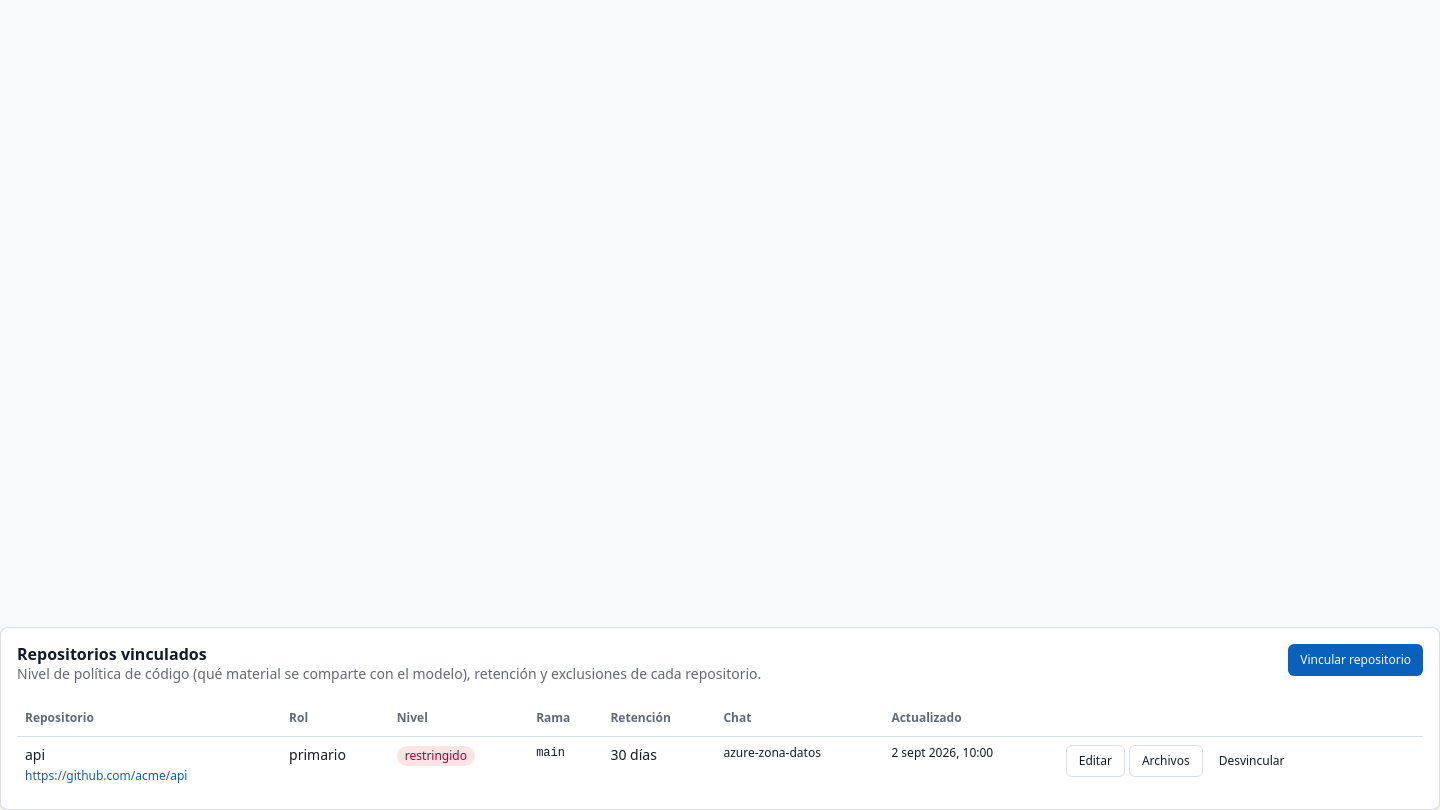
Test: archivos del repositorio › valida y muestra errores con su línea y avisos
(page scrolled)
Click the button "Archivos": (1166, 760) [1129,744,1203,776]
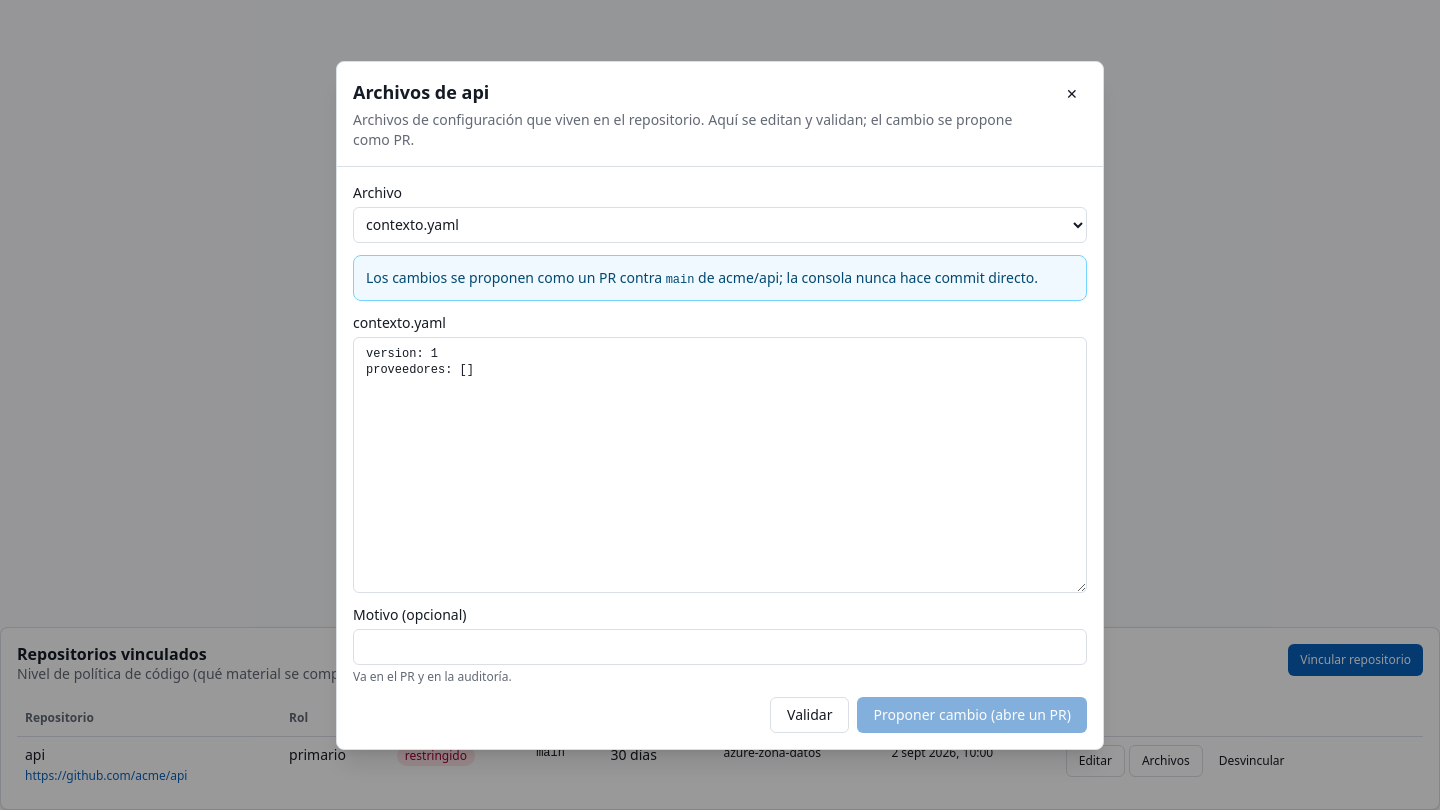
Check: the text "se proponen como un PR" is shown, box [366,268,666,286]
In the text box labelled "contexto.yaml": (720, 464) [353,336,1087,592], type "x"
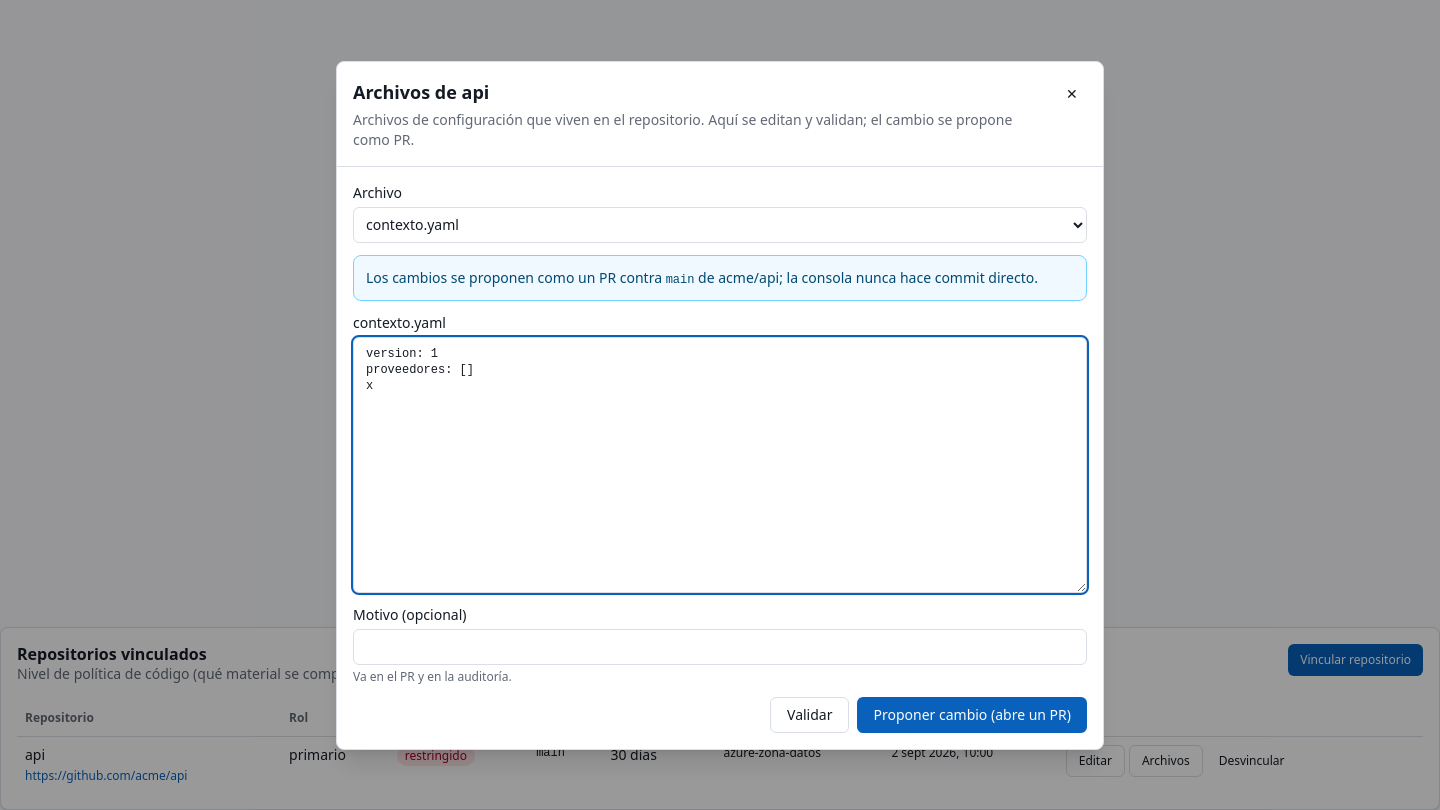
Click the button "Validar": (810, 714) [770,696,850,732]
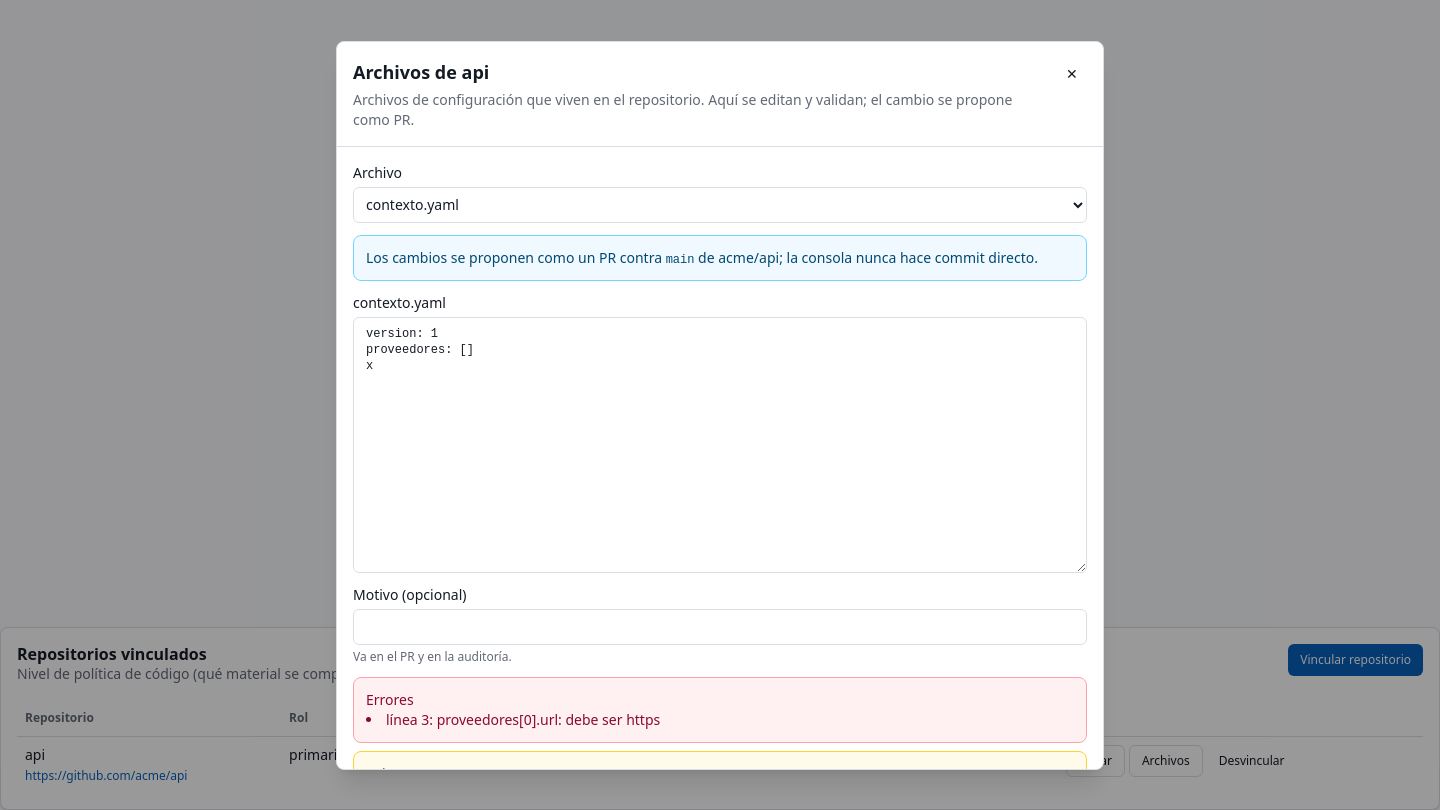
Check: the list item "línea 3: proveedores[0].url: debe ser https" is shown, box [386,710,660,728]
In the text box labelled "contexto.yaml": (720, 444) [353,316,1087,572], type "y"
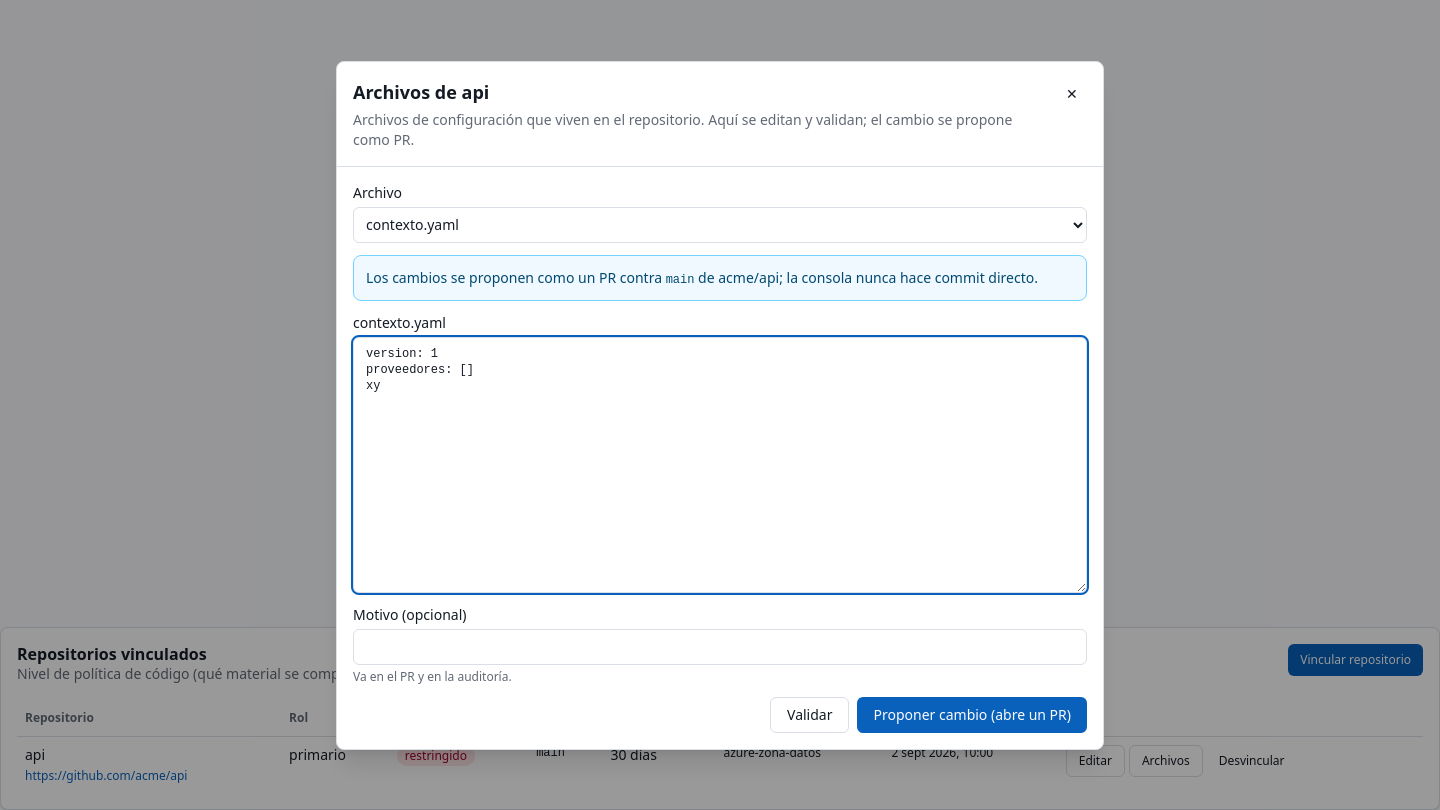
Check: the list item "línea 3" is gone
